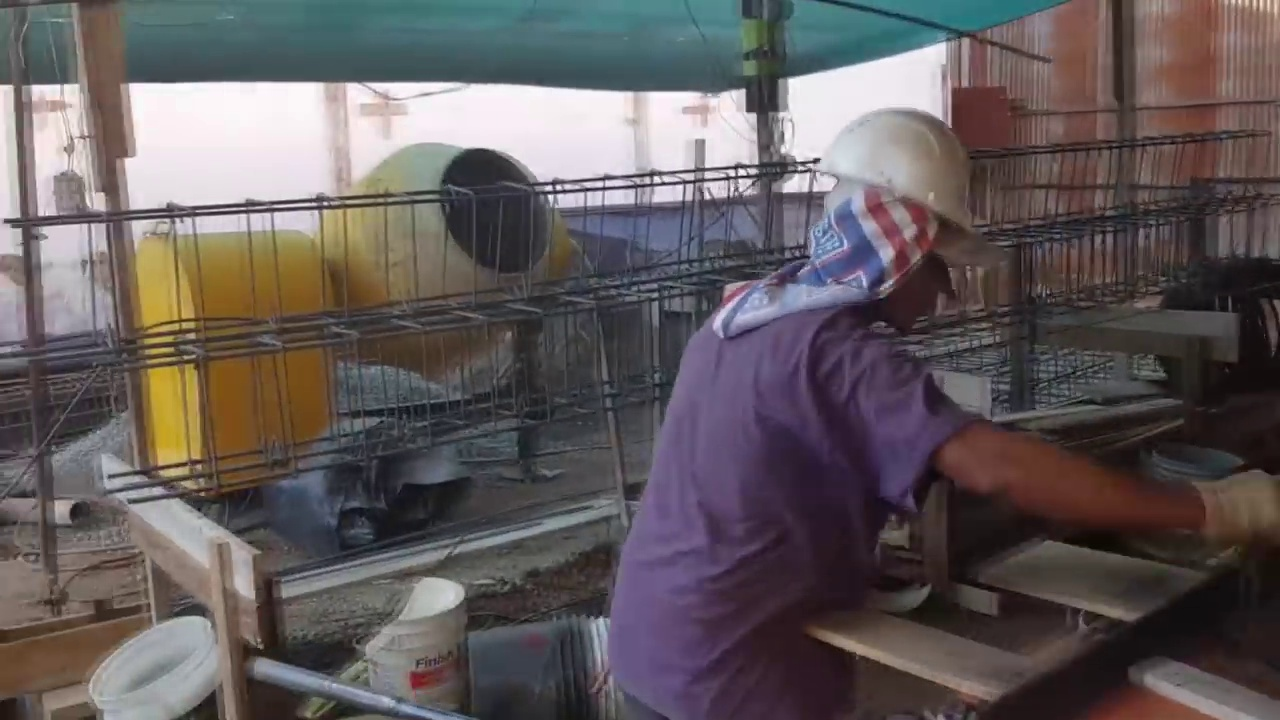helmet: (807, 113, 978, 244)
helmet-on: (771, 108, 992, 333)
person: (600, 110, 1279, 720)
